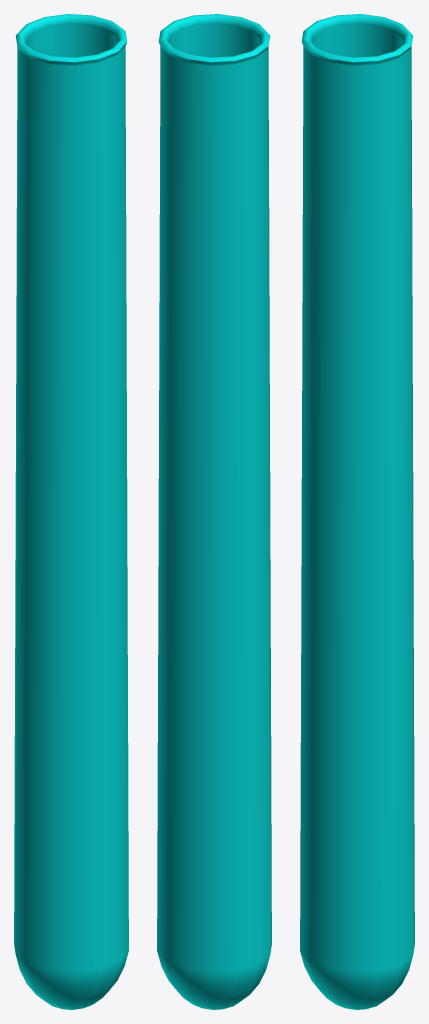
The picture shows the model from 3 angles, left to right: view 1: azimuth 30°, elevation 25°; view 2: azimuth 150°, elevation 25°; view 3: azimuth 330°, elevation 25°; orthographic projection.
Parts seen in each view (by area): view 1: Test_tube3; view 2: Test_tube3; view 3: Test_tube3.
Boxes of the visible parts, bbox=[...] form: Test_tube3: bbox=[14, 14, 128, 1009]; Test_tube3: bbox=[157, 14, 271, 1009]; Test_tube3: bbox=[300, 14, 414, 1009].
Size of what is drawn, in the model's own units: 1.6 by 15 by 1.6.
